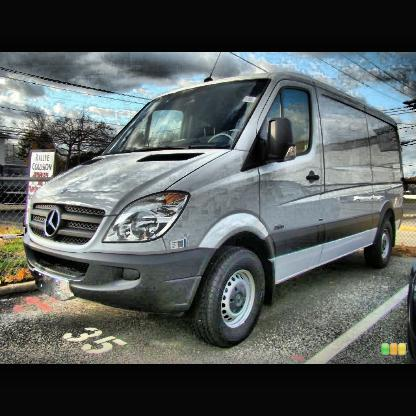Mercedes-Benz Sprinter Van 2012: (23, 55, 409, 340)
